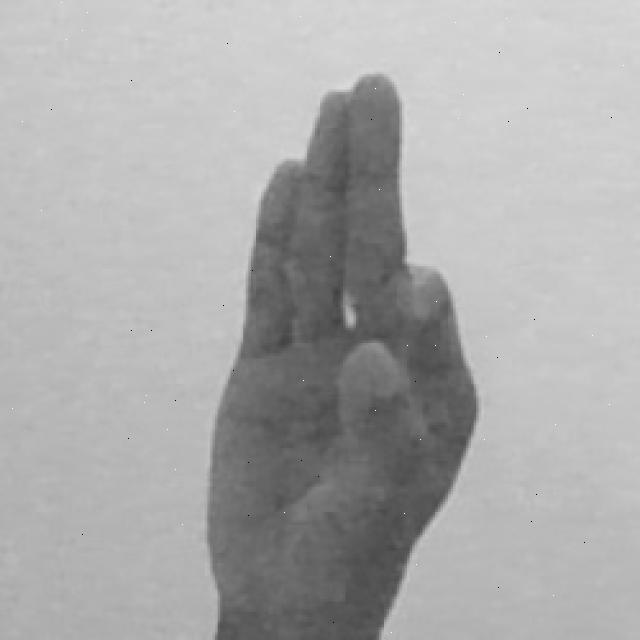F: (202, 71, 480, 640)
